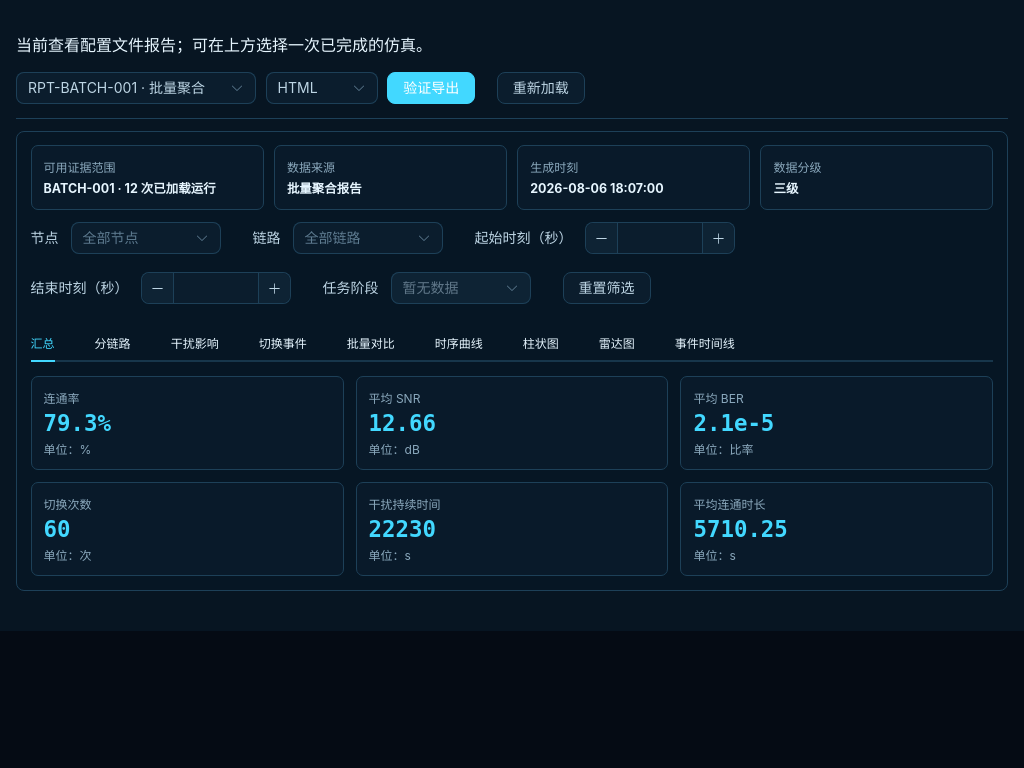
Test case: P3 报表内容 › 管理员在页面中确认三级报告导出验证
Click the button with test id "report-export" at point(431, 88), box [387,72,475,104]
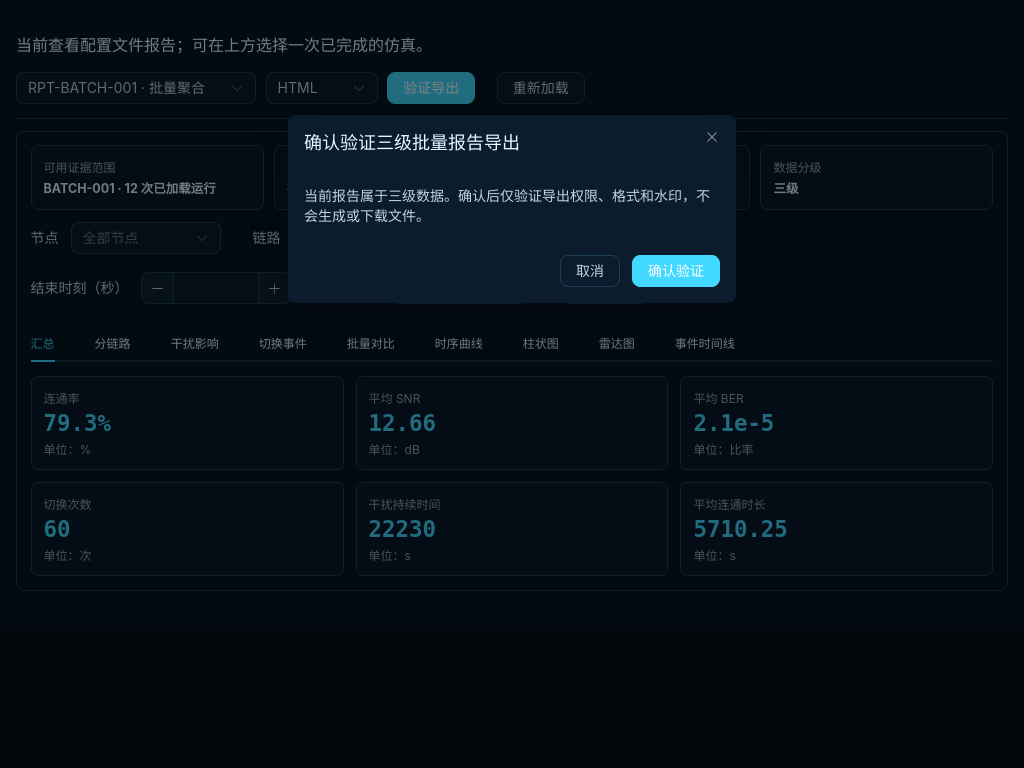
Expected: the text "确认验证三级批量报告导出" is shown, [304,132,520,153]
Click the button with test id "confirm-report-export" at point(676, 271), box [632,255,720,287]
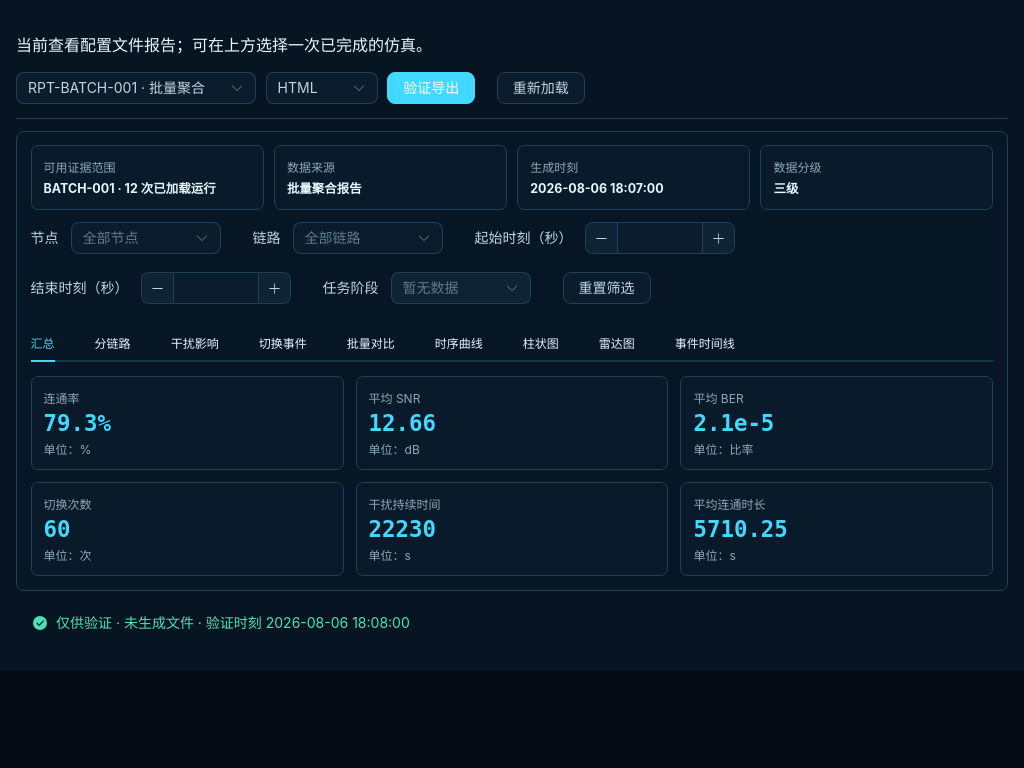
Expected: the element with class "reports-page__export-result" shows "2026-08-06 18:08:00", [56,614,410,631]
